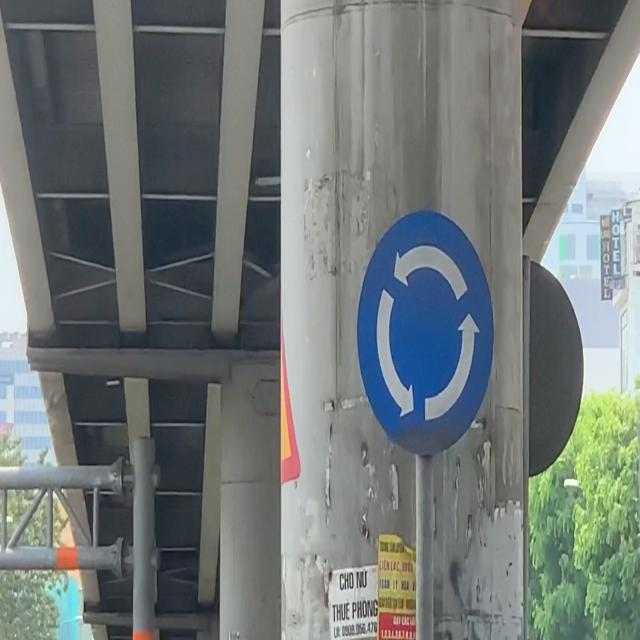Vong xuyen: (355, 208, 494, 462)
